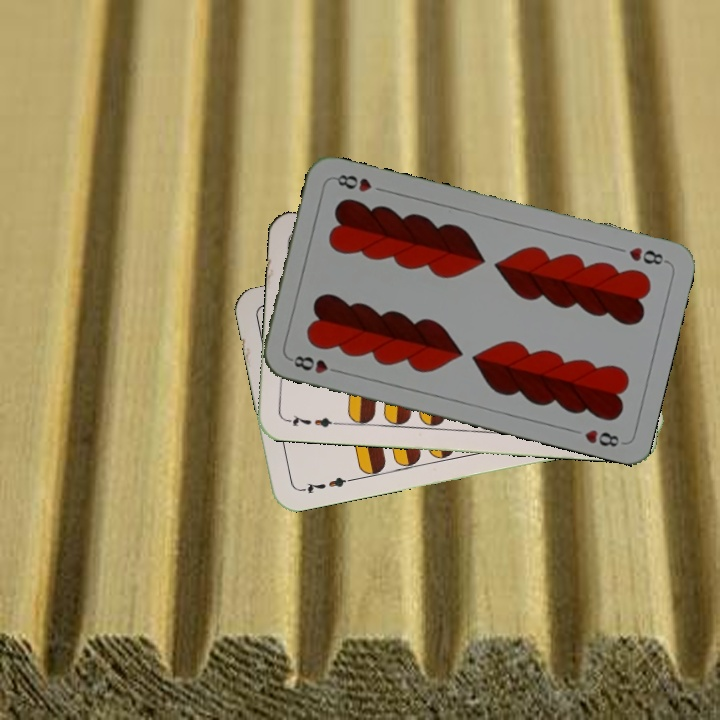E7: (296, 472, 355, 496), (282, 411, 341, 430)
H8: (285, 351, 344, 376), (624, 243, 670, 268)
